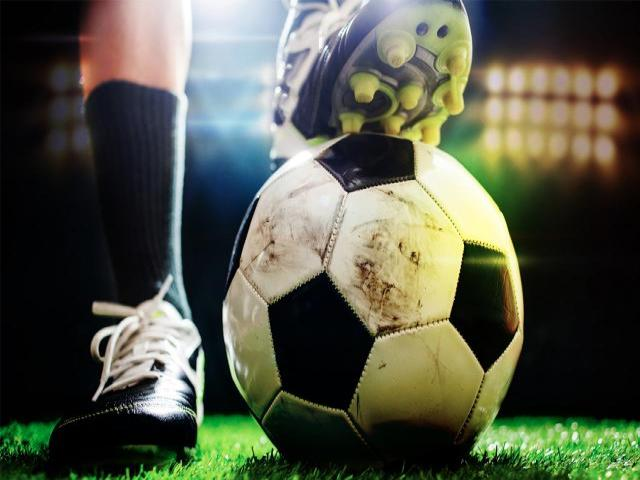round ball: (224, 134, 522, 461)
